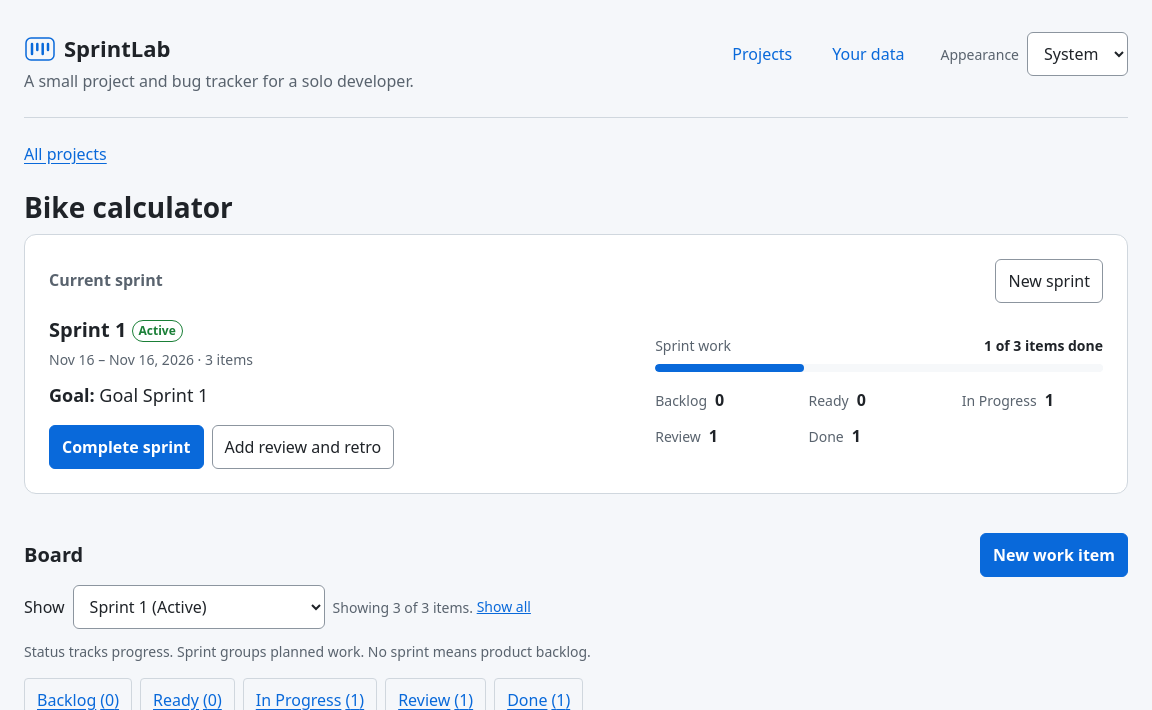
it: Completing a sprint › returns unfinished items to the product backlog, keeping their status
This screenshot has width=1152, height=710.
Step 1. Click the button with aria-label "Complete Sprint 1" → (126, 447), box left=49, top=425, right=204, bottom=469
(page scrolled)
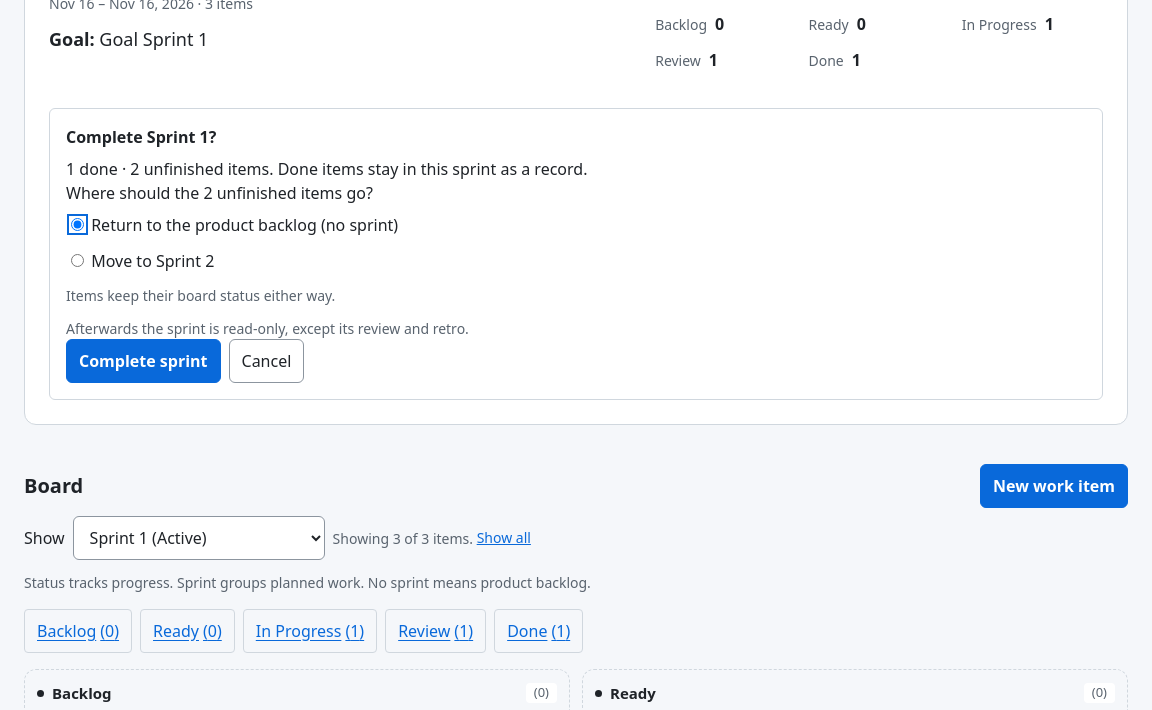
Step 2. Click the button "Complete sprint" → (143, 361), box left=66, top=339, right=220, bottom=383
(page scrolled)
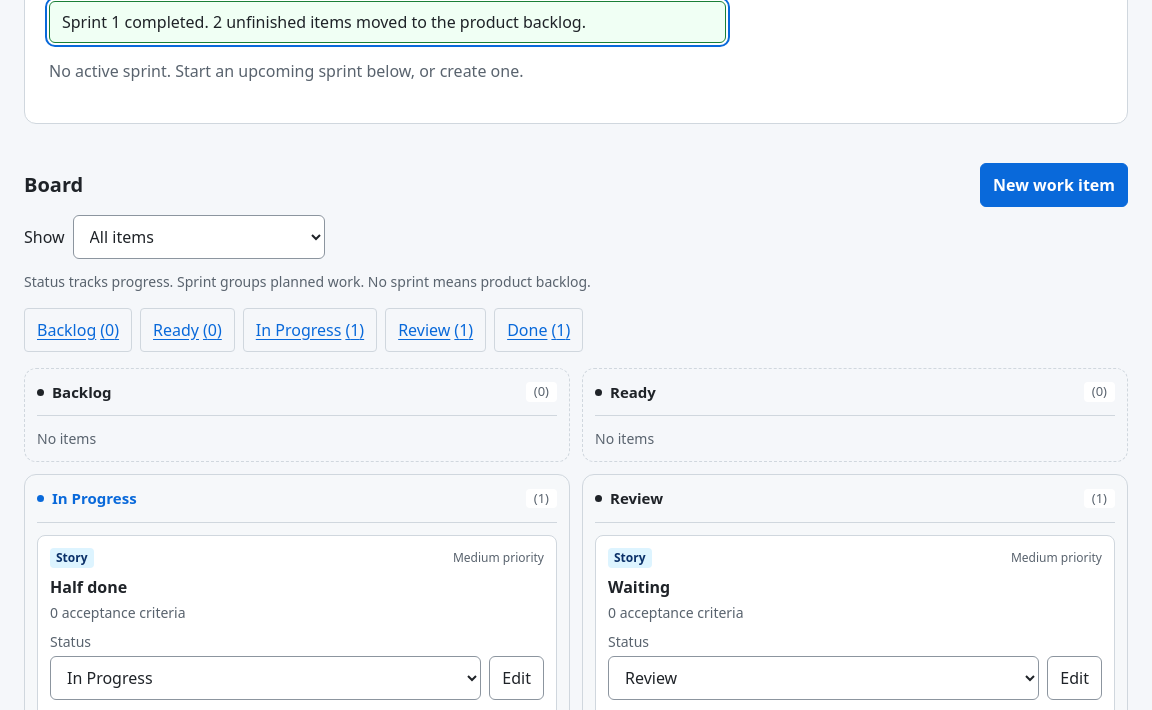
Check: the message reads "Sprint 1 completed. 2 unfinished items moved to the product backlog.", box left=62, top=11, right=586, bottom=33
